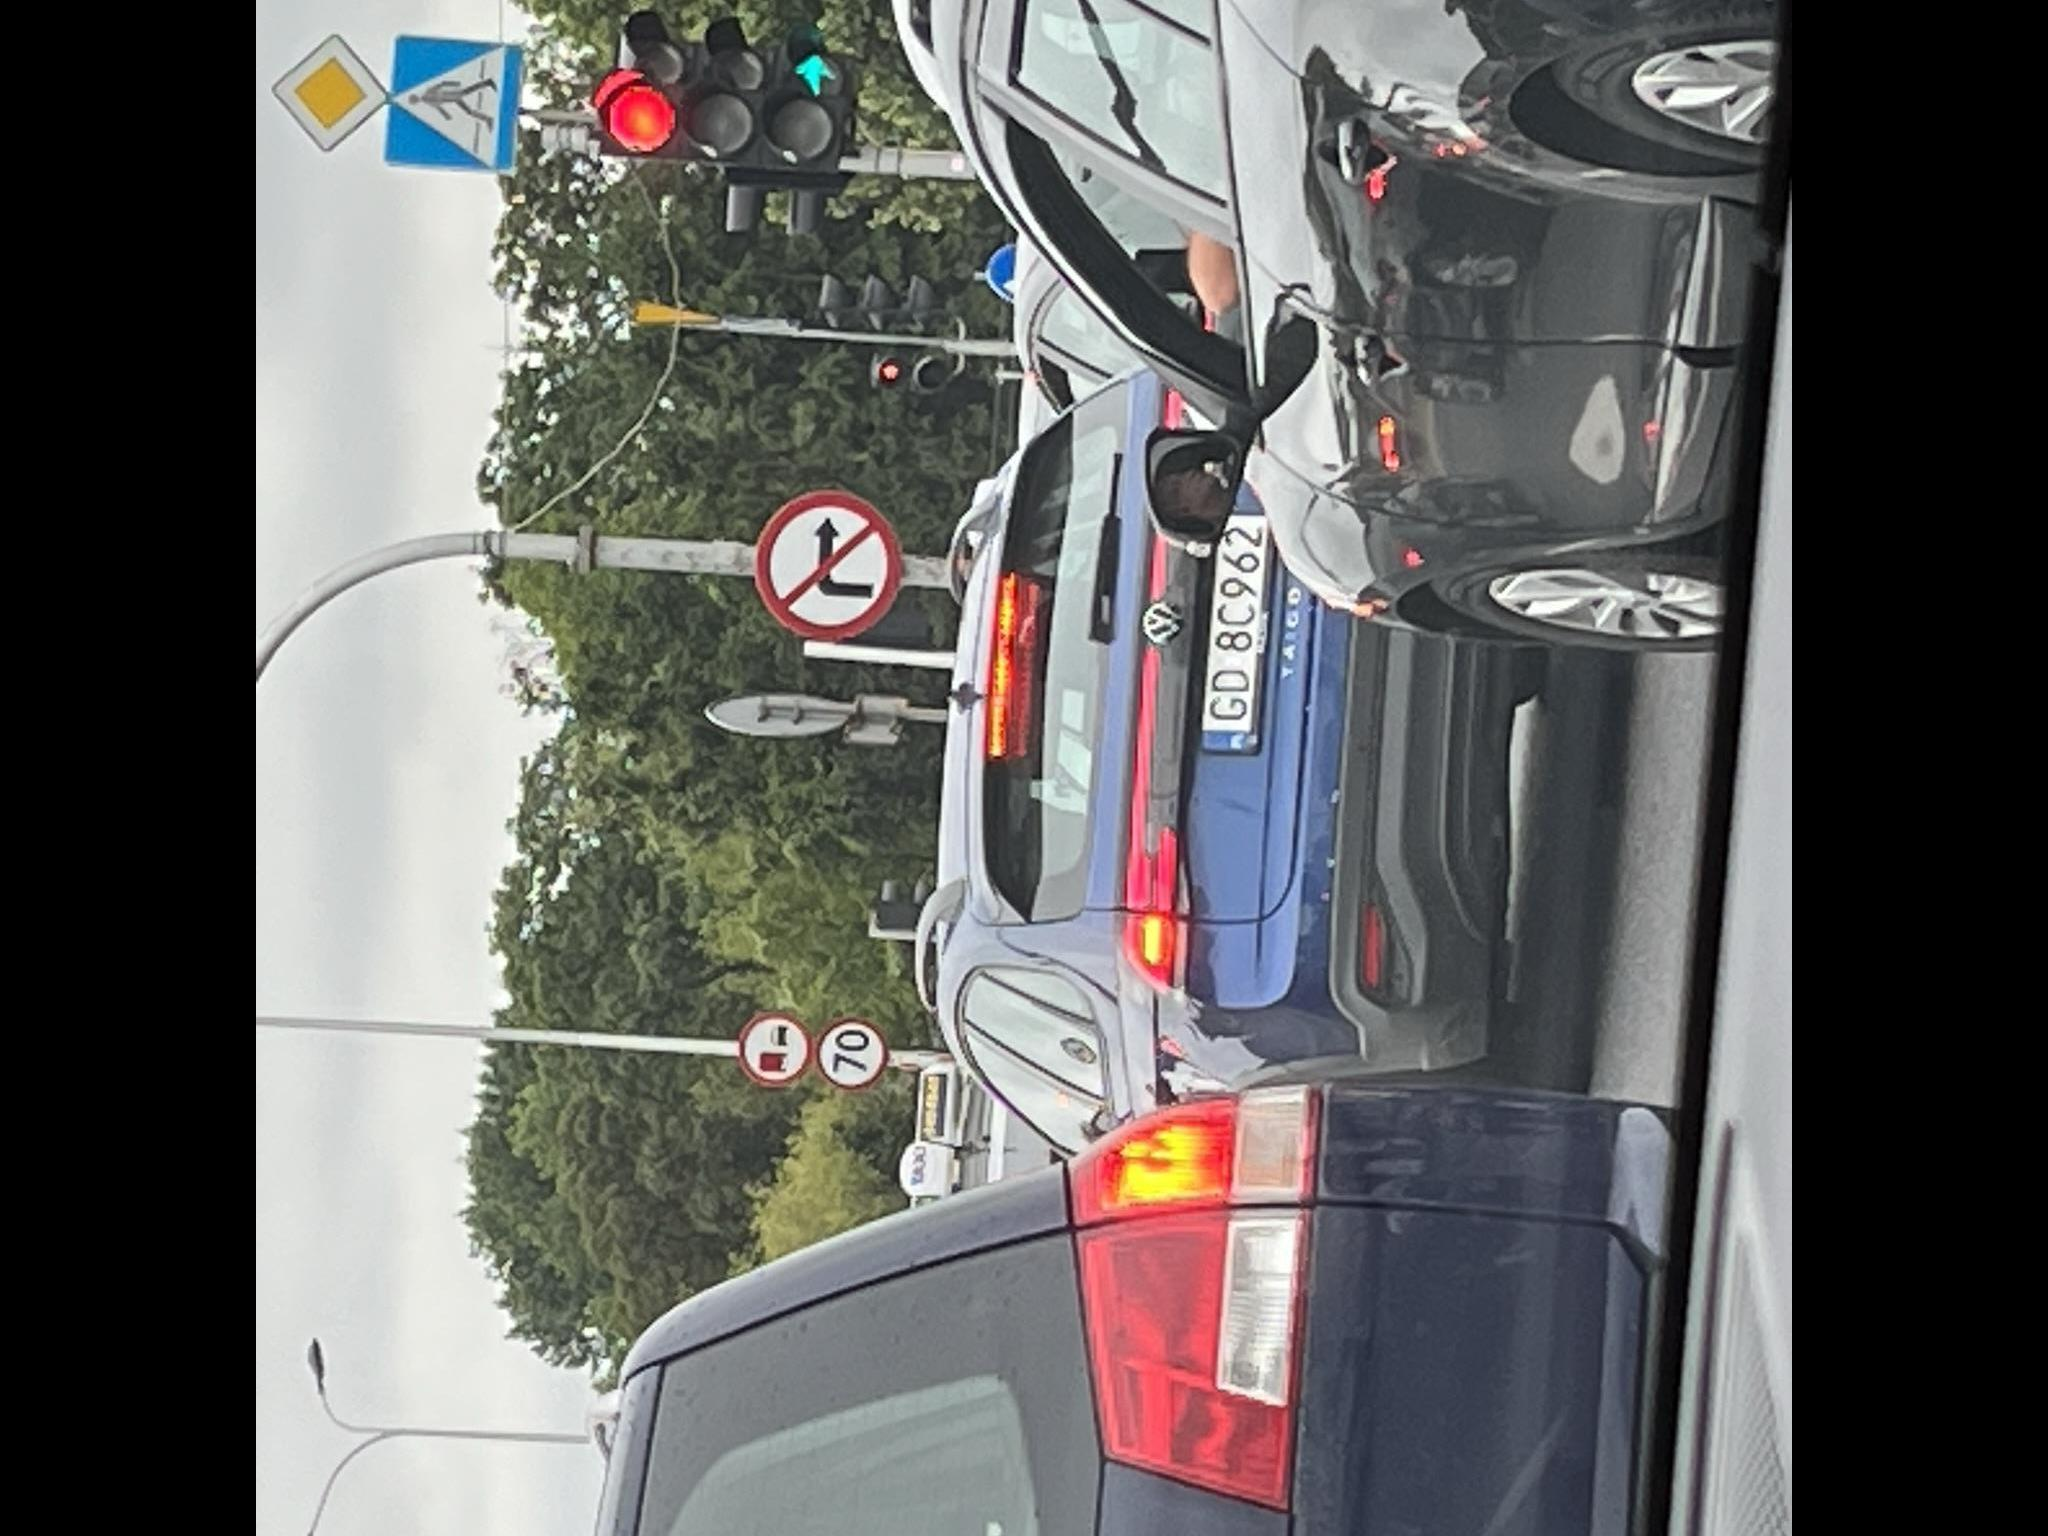information: (382, 31, 531, 173), (269, 31, 390, 152)
mandatory: (984, 240, 1018, 302)
prohibitory: (751, 487, 908, 644), (735, 1010, 814, 1087), (811, 1013, 890, 1091)
warning: (634, 298, 721, 329)
